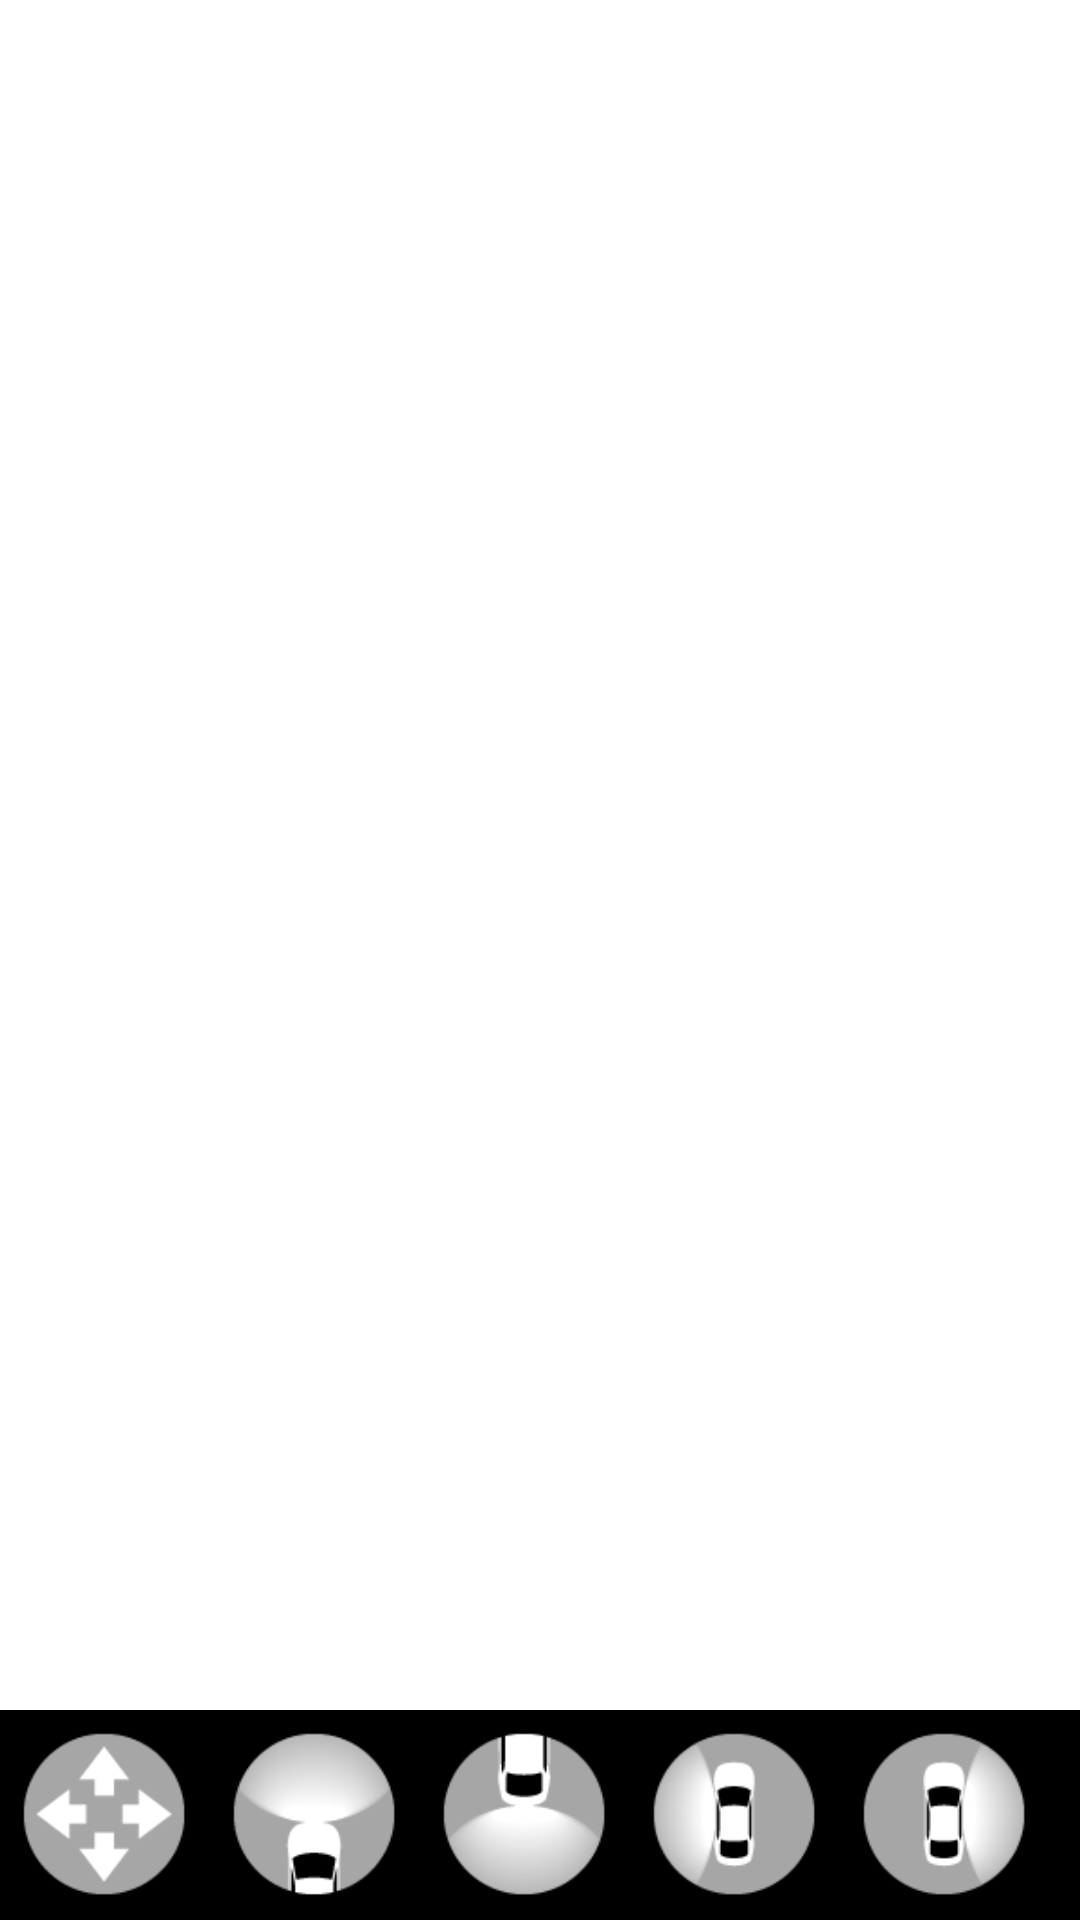

Where icons sit on this 1080*1920 app screen, as (left=x1, top=y1, right=x2, bottom=y2):
all: (left=23, top=1733, right=185, bottom=1895)
behind: (left=443, top=1733, right=605, bottom=1895)
front: (left=233, top=1733, right=395, bottom=1895)
left: (left=653, top=1733, right=815, bottom=1895)
right: (left=863, top=1733, right=1025, bottom=1895)
